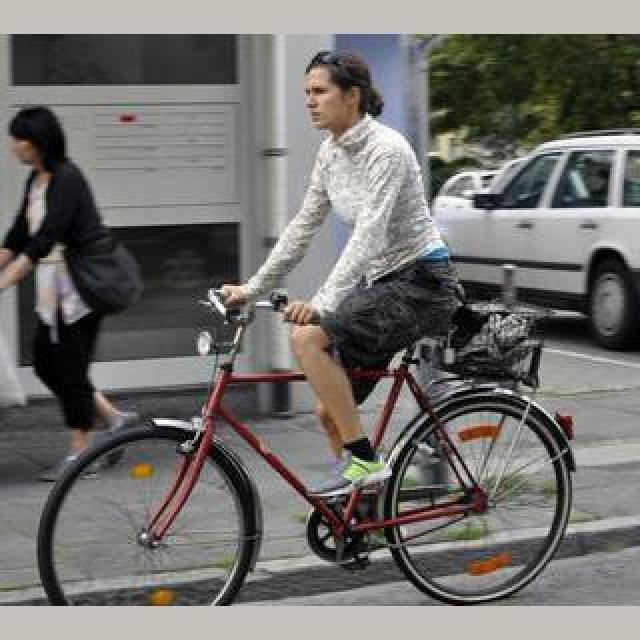Bus-Bike: (426, 128, 640, 350)
MC-Bike: (204, 52, 464, 508), (0, 108, 140, 474)
Person: (32, 280, 558, 604)
